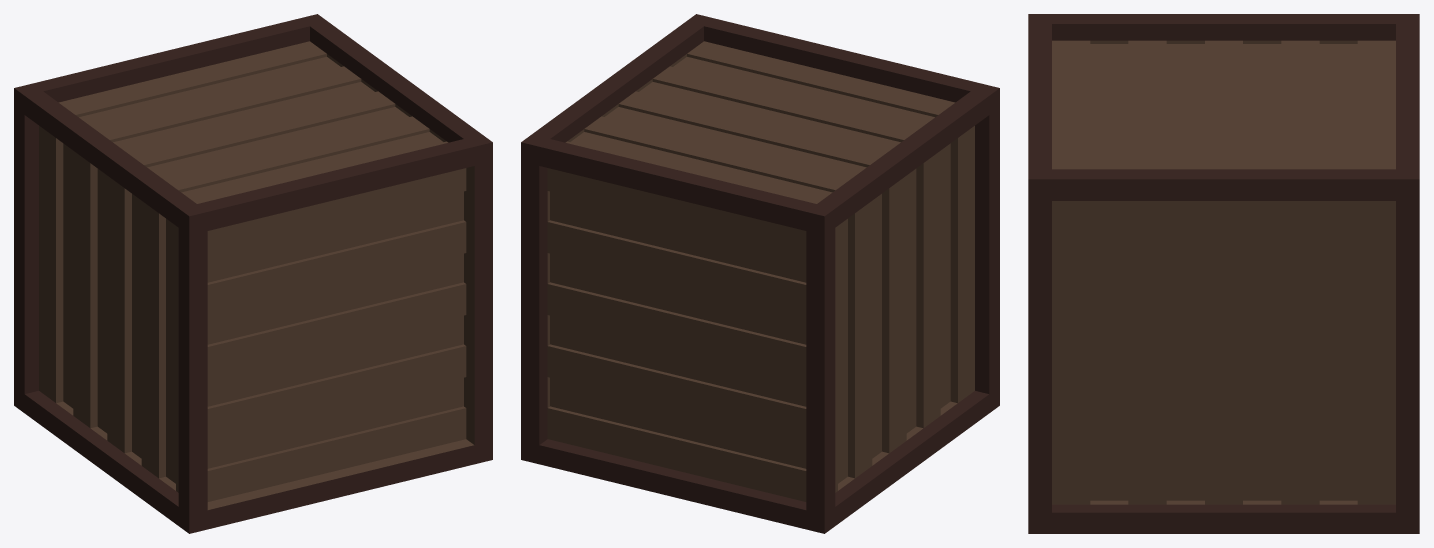
Rendered from P_CRATE 01.fbx.
3 views of the same model, side by side, from view 1: azimuth 30°, elevation 25°; view 2: azimuth 150°, elevation 25°; view 3: azimuth 270°, elevation 25° (orthographic). The views are drawn at different scales.
Parts seen in each view (by area): view 1: Crate_01; view 2: Crate_01; view 3: Crate_01.
Part boxes in pixels (bbox=[...]): Crate_01: bbox=[14, 14, 492, 533]; Crate_01: bbox=[521, 14, 999, 533]; Crate_01: bbox=[1028, 14, 1419, 533].
Size of the model in its own units: 63.96 by 63.96 by 63.96.
